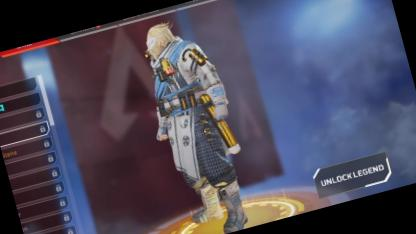Target: (131, 11, 246, 194)
